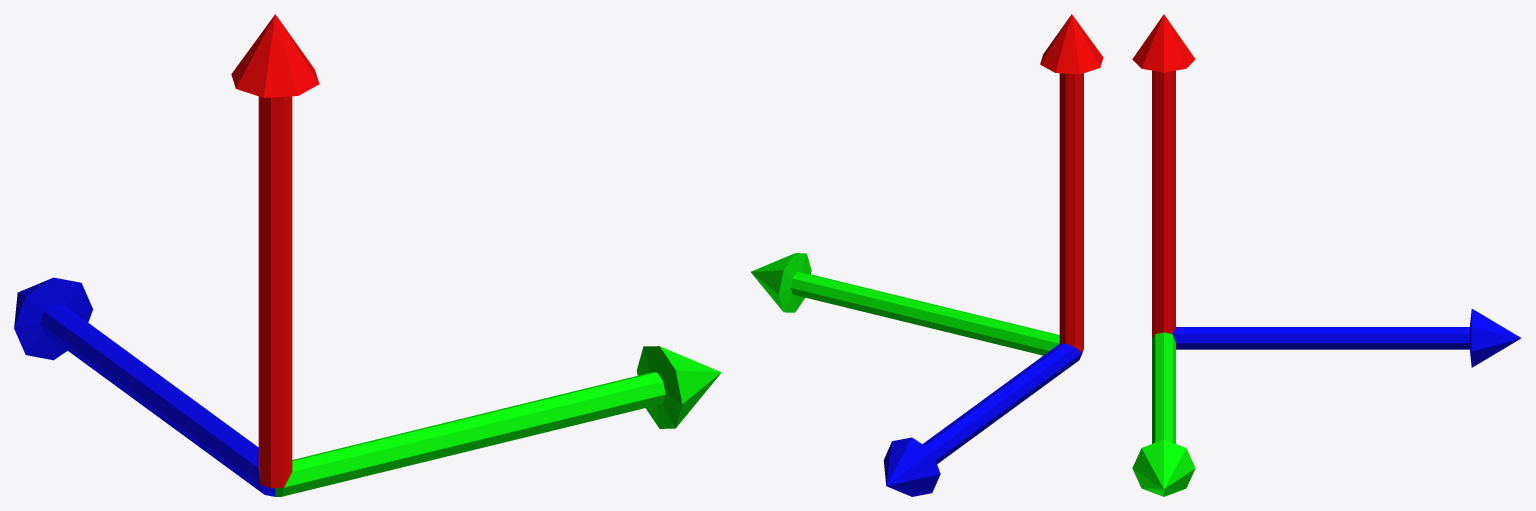
File: axis.obj
3 views of the same model, side by side, from view 1: azimuth 30°, elevation 25°; view 2: azimuth 150°, elevation 25°; view 3: azimuth 270°, elevation 25° (orthographic). The views are drawn at different scales.
Visible parts, largest first — view 1: Cylinder.002_Cylinder.004; view 2: Cylinder.002_Cylinder.004; view 3: Cylinder.002_Cylinder.004.
Boxes of the visible parts, x1,y1,x2,y2 form: Cylinder.002_Cylinder.004: (14,14,721,496); Cylinder.002_Cylinder.004: (751,14,1103,496); Cylinder.002_Cylinder.004: (1132,14,1521,496).
Bounding box in the file's own units: 1.09 × 1.09 × 1.09.
1 material, 1 textured.
